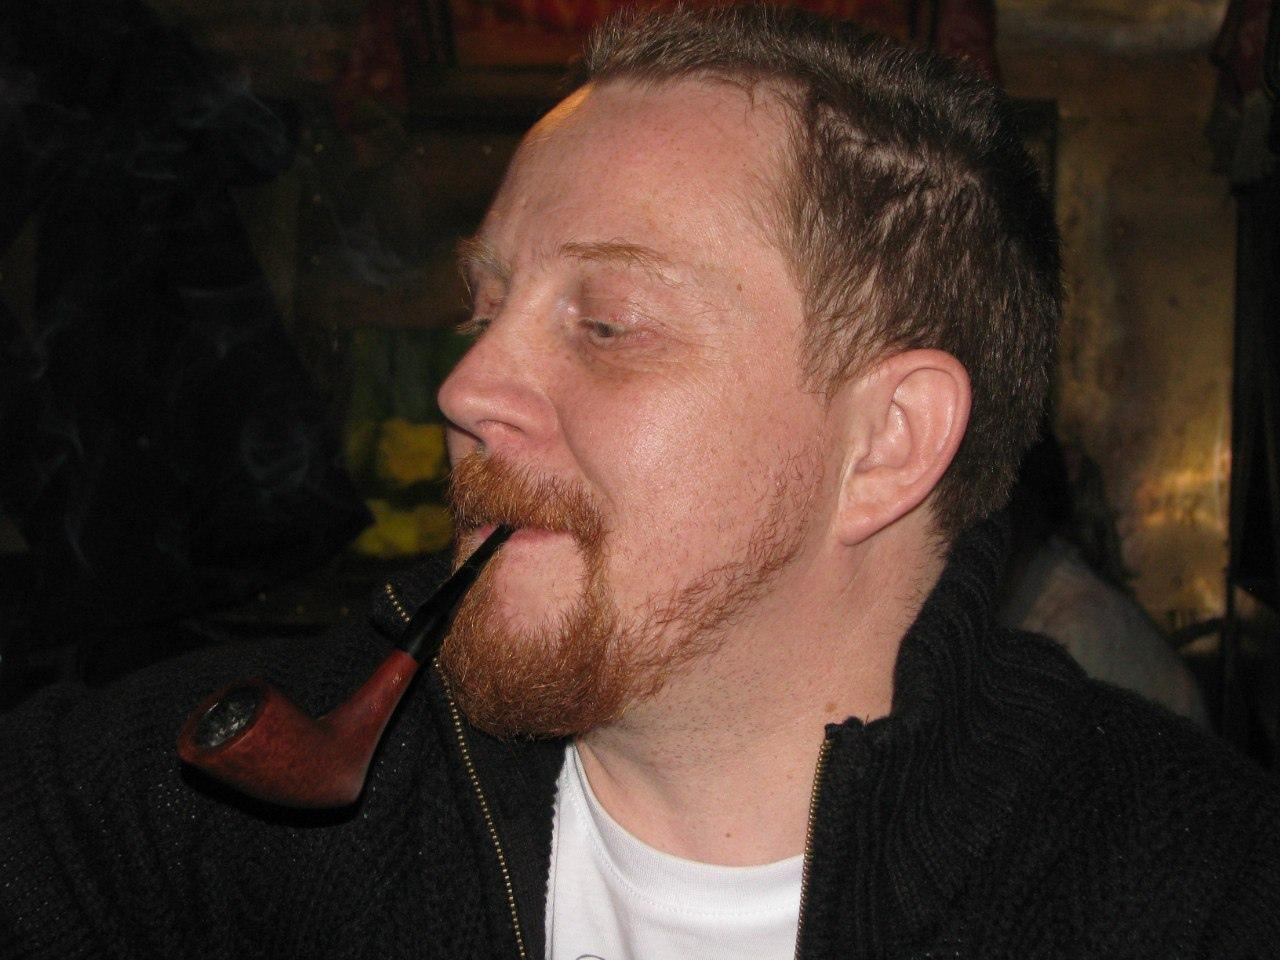trubka: (177, 525, 514, 814)
